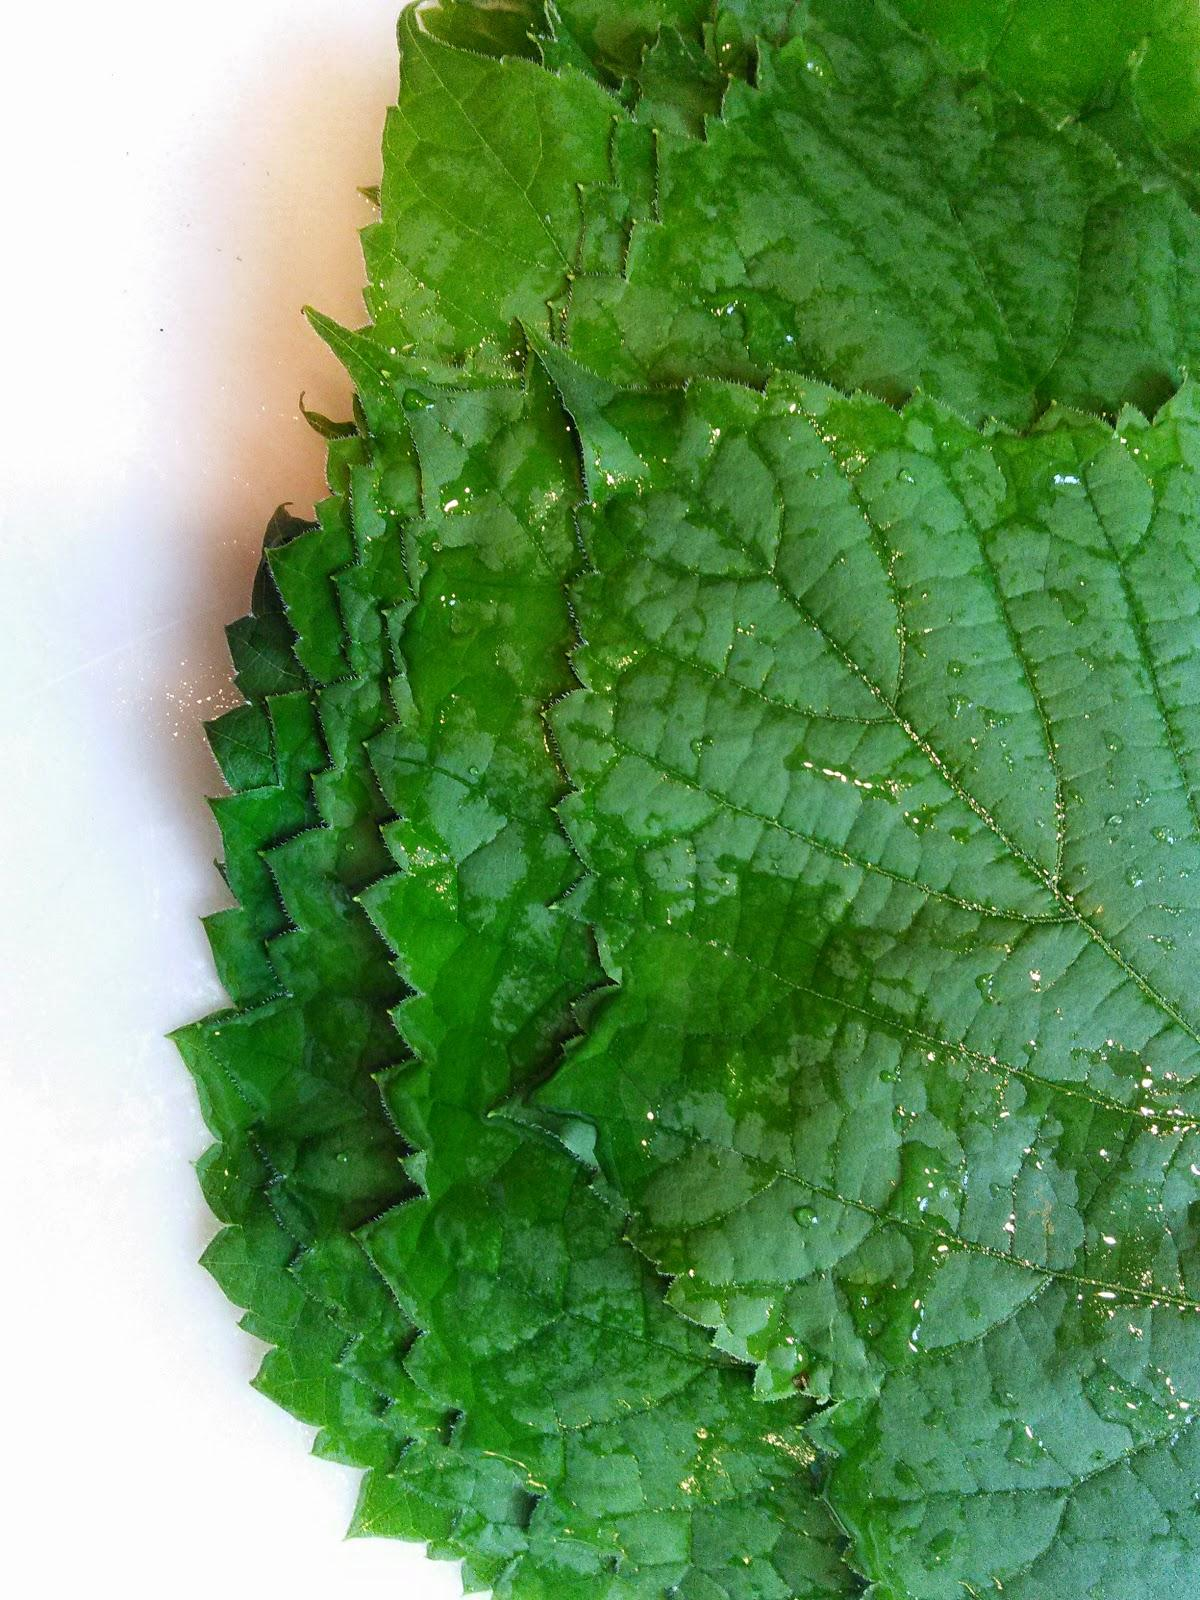grape leaf black rot: (516, 331, 1200, 1597)
